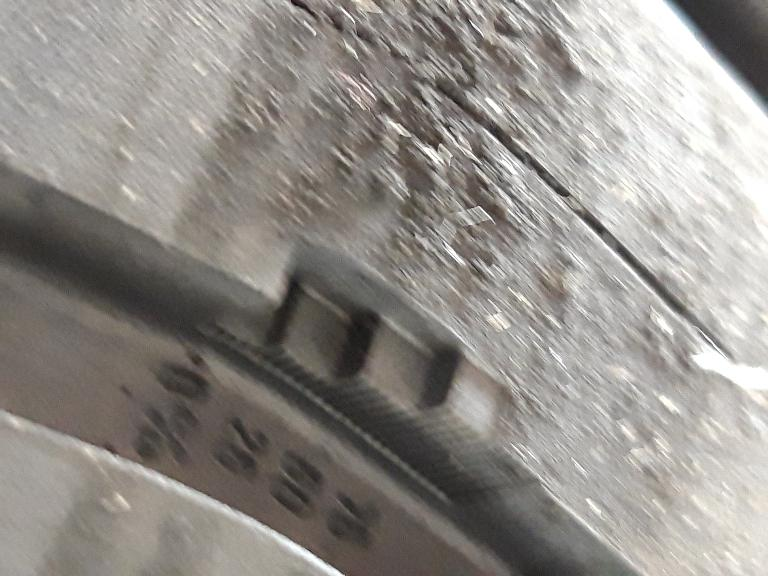temoin:75: (184, 216, 516, 491)
